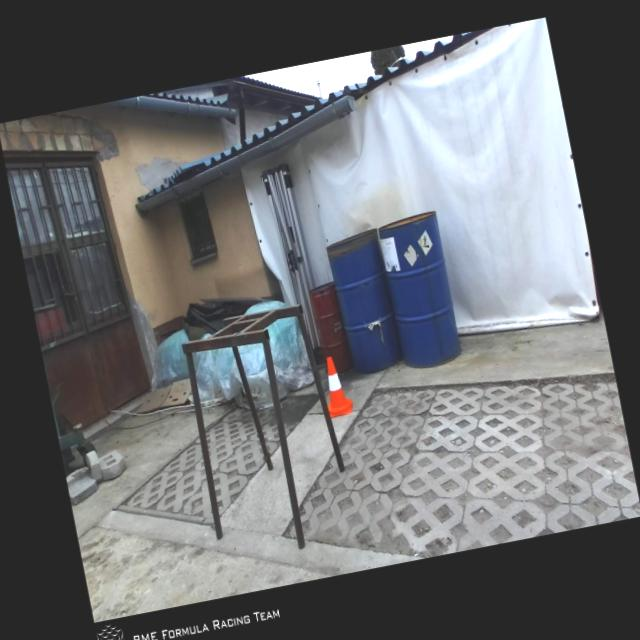orange_cone: (319, 354, 355, 418)
